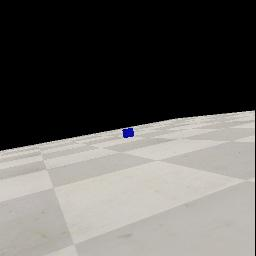box: (122, 128, 134, 138)
